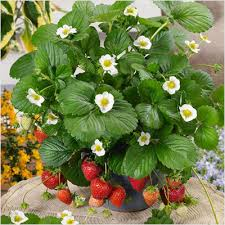Fresa: (88, 175, 113, 201), (79, 156, 102, 182), (106, 182, 127, 210), (40, 168, 61, 192), (56, 186, 74, 207)
